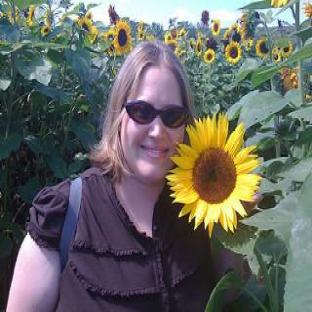sunflower: (165, 112, 262, 237)
